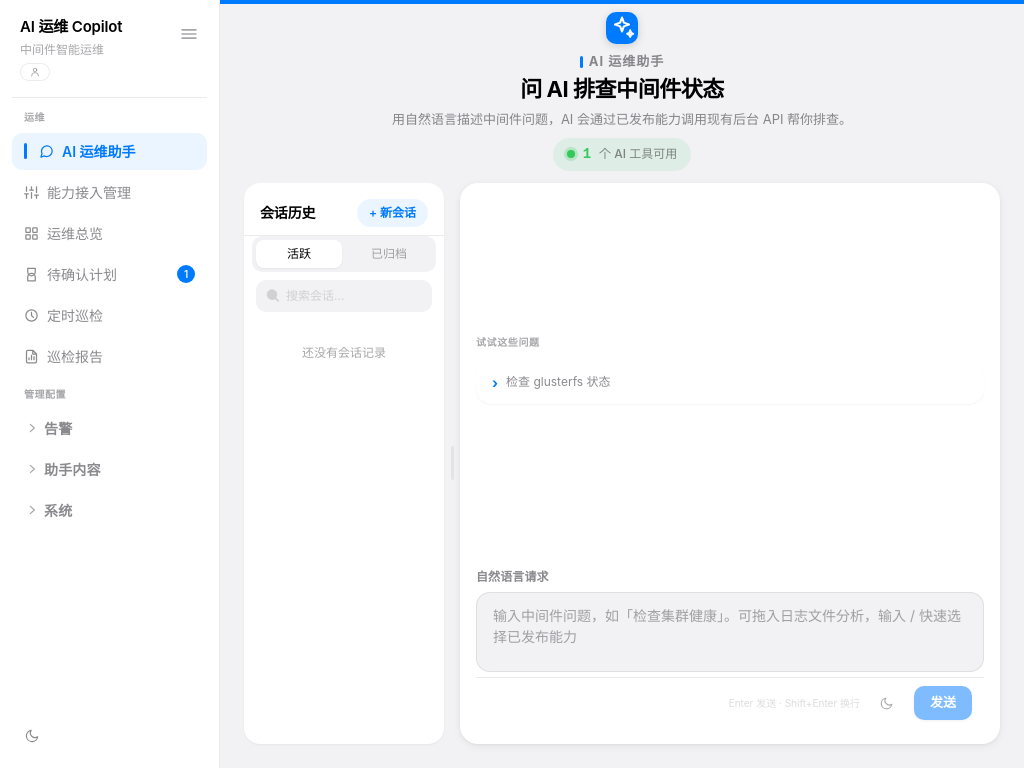
Capability Console › sends a user question through the assistant entry and renders an answer
The image size is (1024, 768).
Type "检查 glusterfs data volume 状态" into the text box with test id "assistant-input" at (730, 632), box [476,592,984,672]
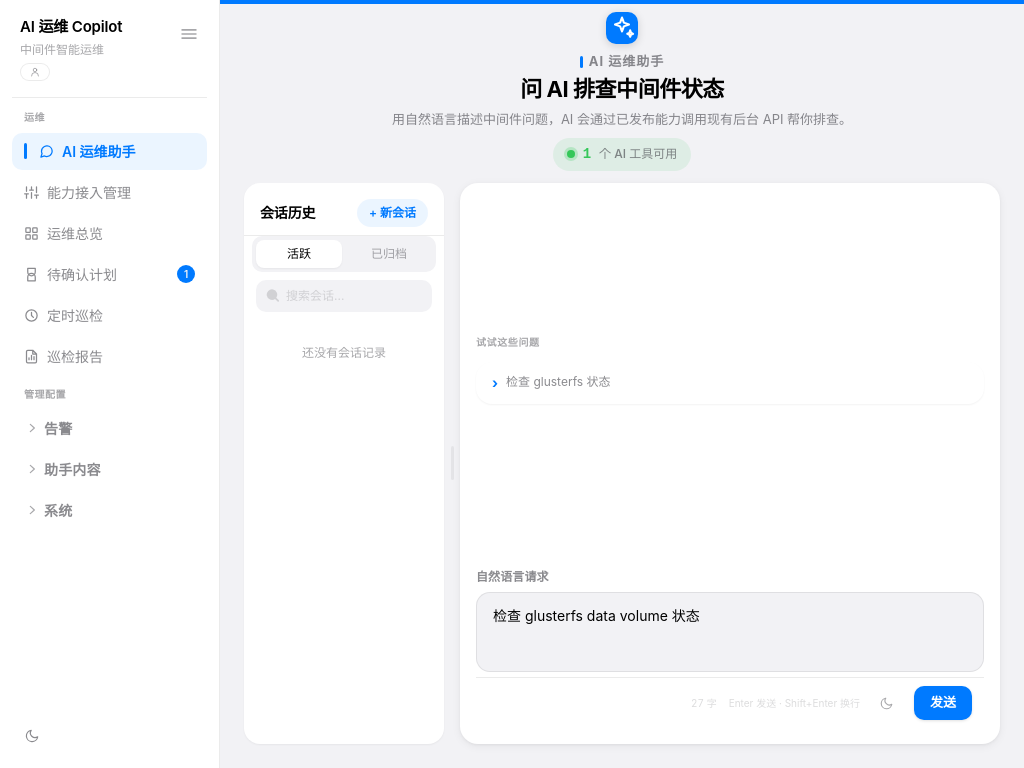
Click the button with test id "assistant-send" at (943, 703), box [914,686,972,720]
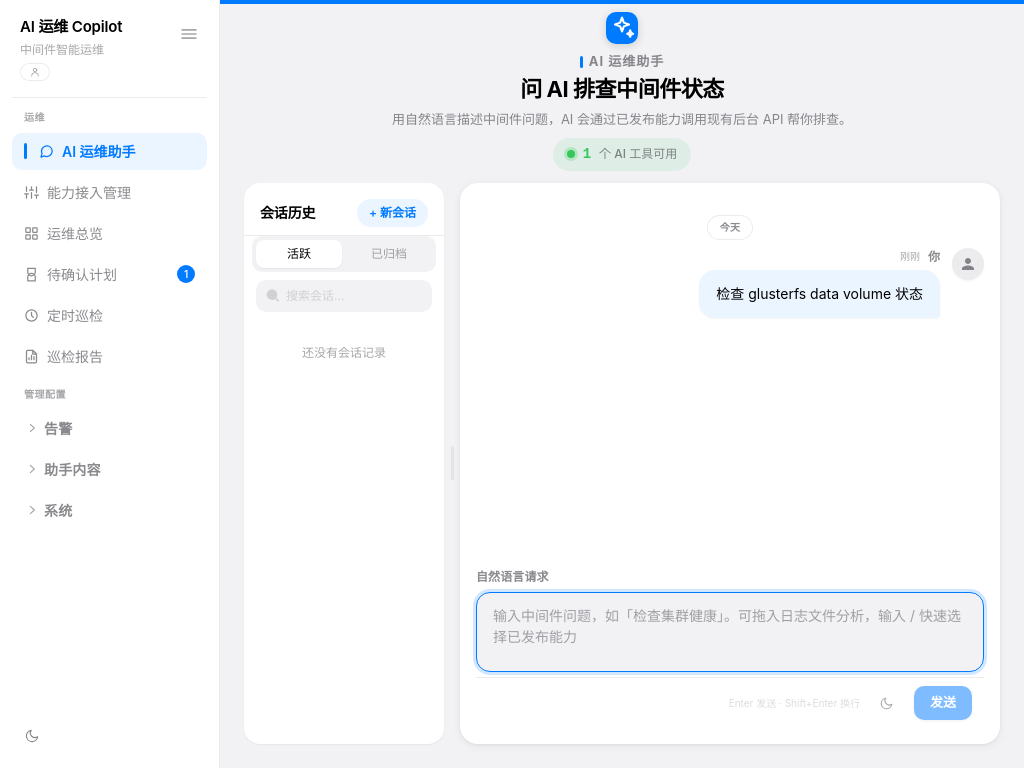
Result: the element with test id "assistant-transcript" shows "检查 glusterfs data volume 状态" at [716,284,923,302]
